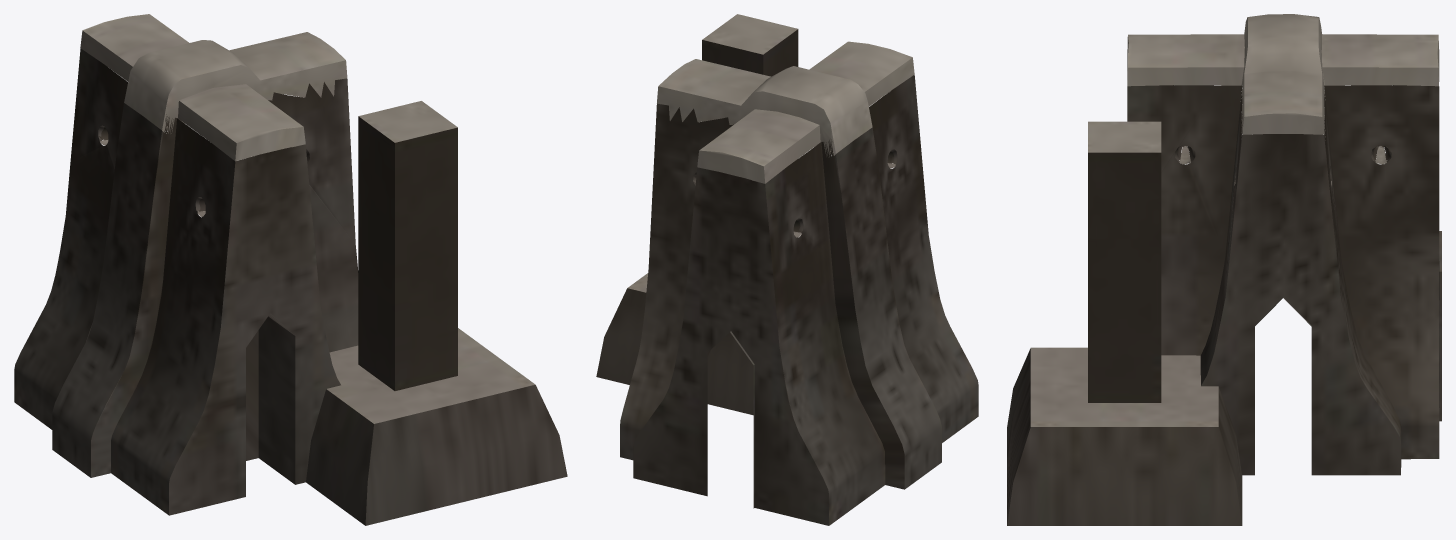
The model's file is stone-wall-nes-fill.glb.
The picture shows the model from 3 angles, left to right: view 1: azimuth 30°, elevation 25°; view 2: azimuth 150°, elevation 25°; view 3: azimuth 270°, elevation 25°; orthographic projection. The views are drawn at different scales.
Parts seen in each view (by area): view 1: body; view 2: body; view 3: body.
Boxes of the visible parts, x1,y1,x2,y2 form: body: (14,14,567,525); body: (596,14,978,525); body: (1007,14,1441,525).
Bounding box in the file's own units: 1.32 × 1.32 × 1.37.
Materials: 1 (1 with a texture image).
